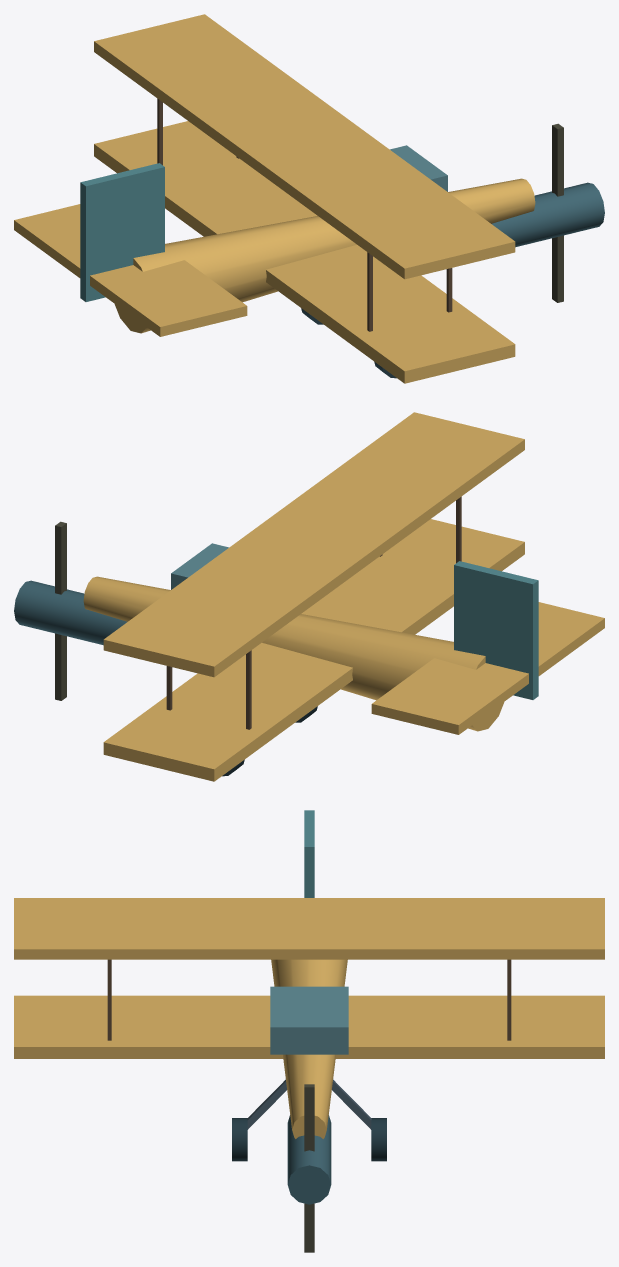
Rendered from biplane.glb.
The picture shows the model from 3 angles, top to bottom: view 1: azimuth 30°, elevation 25°; view 2: azimuth 150°, elevation 25°; view 3: azimuth 270°, elevation 25°; orthographic projection. The views are drawn at different scales.
Parts seen in each view (by area): view 1: biplane (×8); view 2: biplane (×8); view 3: biplane (×9).
Boxes of the visible parts, x1=… form: biplane (×8): x1=14, y1=14, x2=604, y2=383; biplane (×8): x1=14, y1=412, x2=604, y2=781; biplane (×9): x1=14, y1=810, x2=604, y2=1252.
Bounding box in the file's own units: 6.45 × 2.8 × 6.8.
